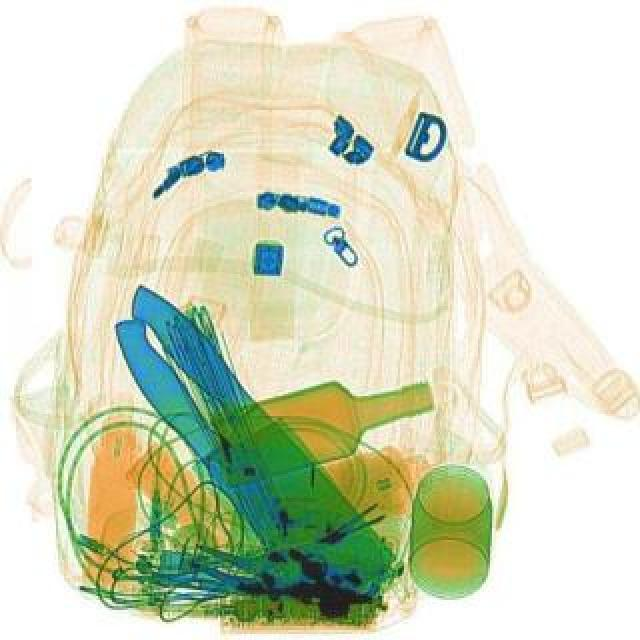knife: (78, 272, 394, 608), (98, 278, 398, 614)
